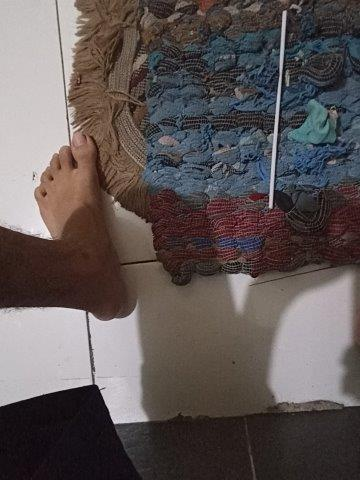sedotan: (269, 12, 287, 208)
